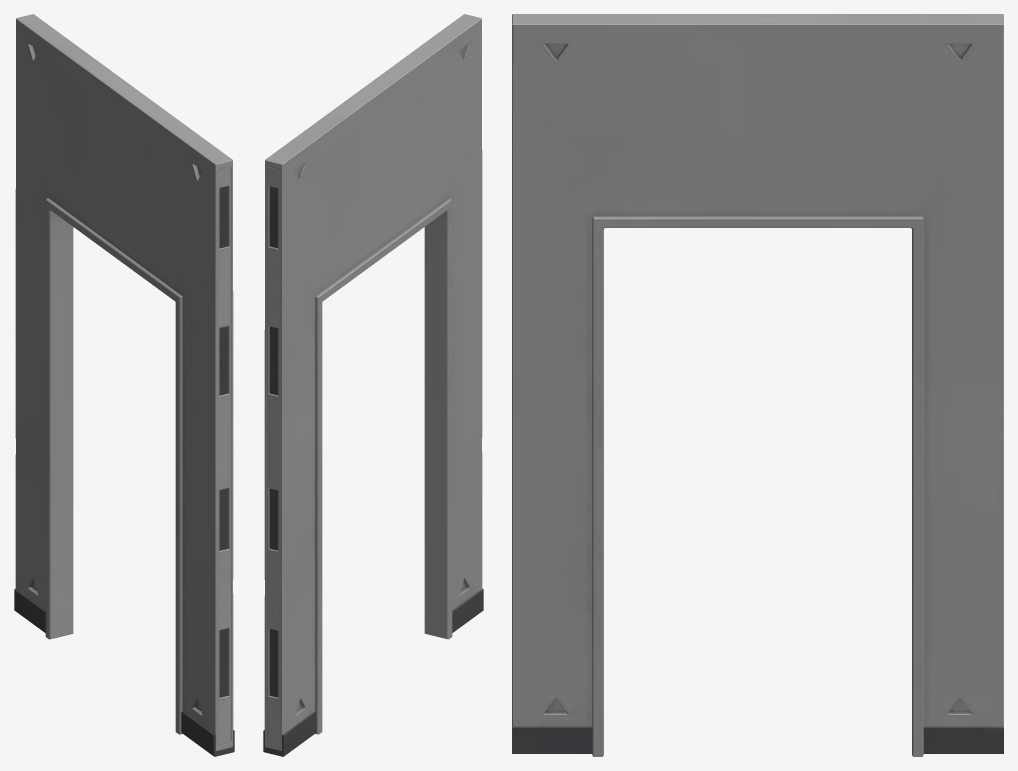
The model's file is SM_WallGate_SF_3248c3.glb.
The picture shows the model from 3 angles, left to right: view 1: azimuth 30°, elevation 25°; view 2: azimuth 150°, elevation 25°; view 3: azimuth 270°, elevation 25°; orthographic projection. The views are drawn at different scales.
Size of the model in its own units: 0.2778 by 6.56 by 4.
Materials: 1 (1 with a texture image).
